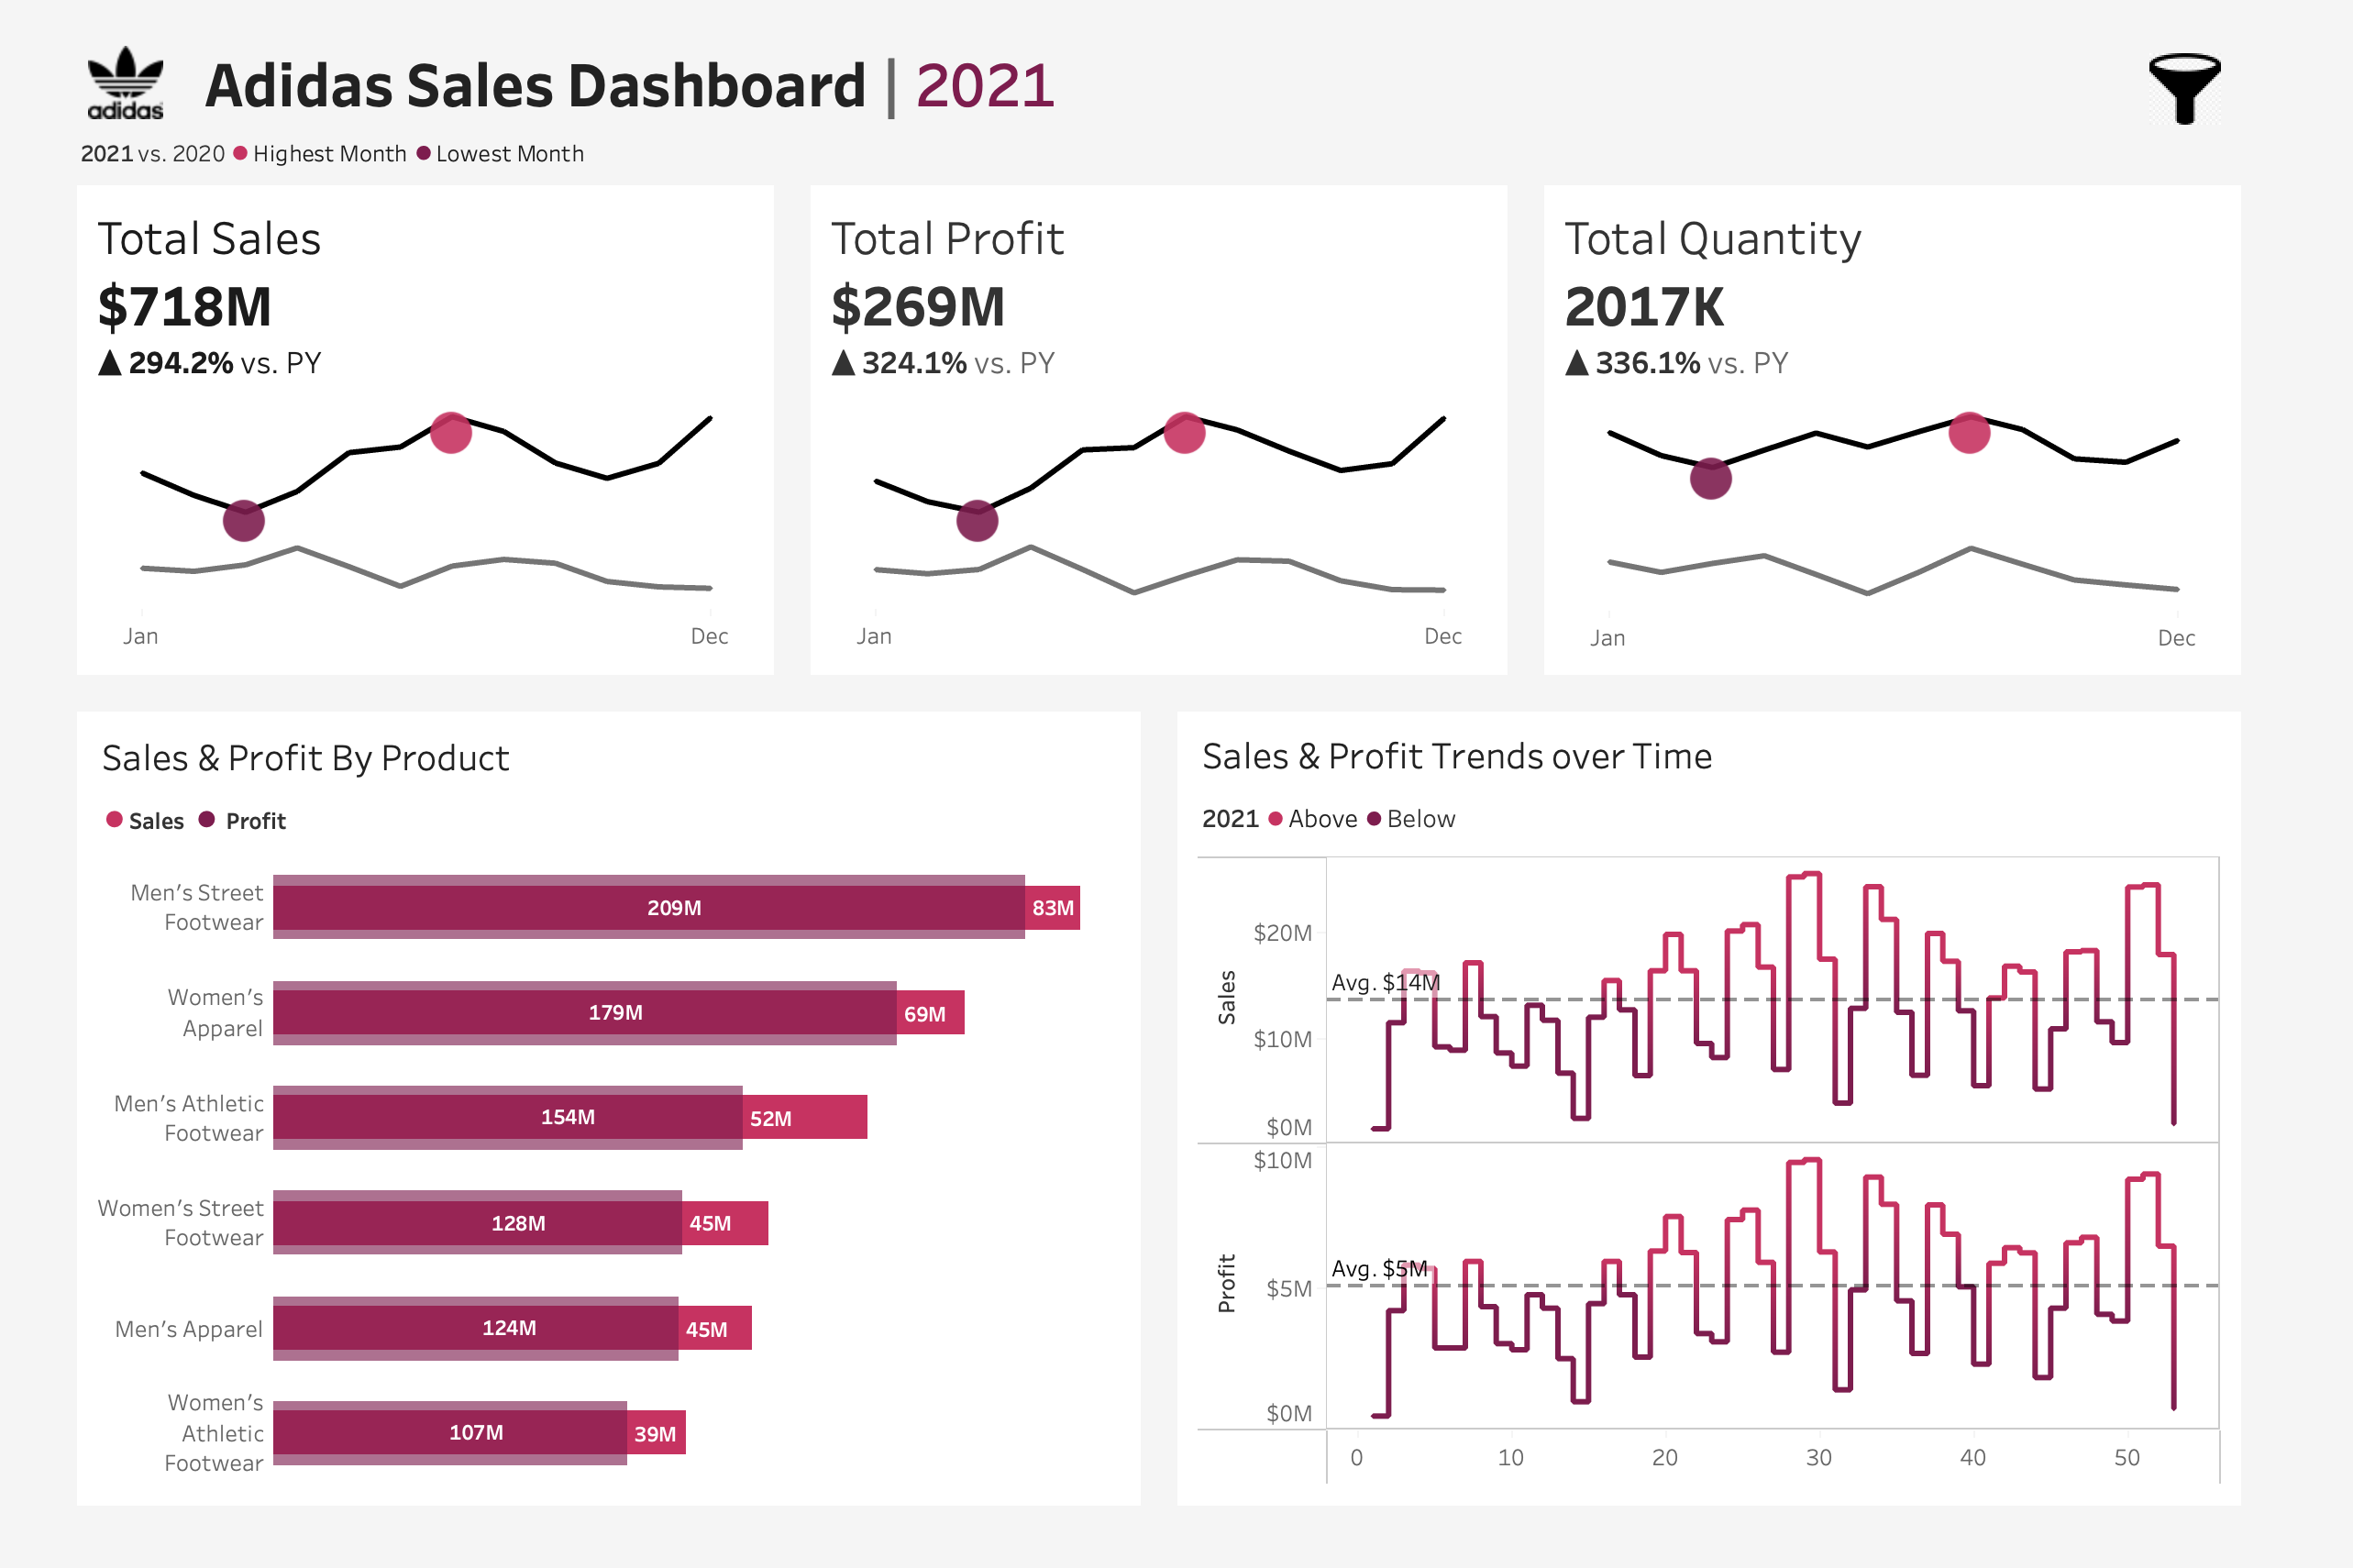

Layout of this report page (visuals, bound fields, positions):
{"tool":"tableau","page":{"name":"Dashboard 1","canvas":[1200,800],"ordinal":0},"visuals":[{"type":"image","param":"/Users/farzankhan/Downloads/adidas-logo-png-transparent-24.png","box":[0,0,73,48]},{"type":"text","box":[73,0,774,48]},{"type":"dashboard-object","box":[1134.5,8,50.2,39]},{"type":"blank","box":[1035.6,10,152.8,45]},{"type":"worksheet","title":"Legend KPI","mark":"Automatic","box":[0,48,1200,27]},{"type":"text","box":[1035.6,55,152.8,34]},{"type":"worksheet","title":"KPI sales","mark":"Automatic","rows":["Calculation_174092294338584579"],"cols":["Invoice Date"],"box":[0,75,400,282]},{"type":"worksheet","title":"KPI profit","mark":"Automatic","rows":["Calculation_174092294359814154"],"cols":["Invoice Date"],"box":[400,75,400,282]},{"type":"worksheet","title":"KPI quantity","mark":"Automatic","rows":["Calculation_174092294441005080"],"cols":["Invoice Date"],"box":[800,75,400,282]},{"type":"parameter","param":"[Parameters].[Parameter 1]","box":[1035.6,89,152.8,52]},{"type":"blank","box":[1035.6,141,152.8,54]},{"type":"text","box":[1035.6,195,152.8,31]},{"type":"filter","title":"KPI sales","param":"[federated.02q3qhh08572w71dziums1x1jynj].[none:Product:nk]","box":[1035.6,226,152.8,52]},{"type":"filter","title":"KPI sales","param":"[federated.02q3qhh08572w71dziums1x1jynj].[none:Sales Method:nk]","box":[1035.6,278,152.8,52]},{"type":"blank","box":[1035.6,330,152.8,56]},{"type":"text","box":[17,374,566,35]},{"type":"text","box":[617,374,566,32.7]},{"type":"text","box":[1035.6,386,152.8,31]},{"type":"text","box":[617,406.7,566,34.9]},{"type":"text","box":[17,409,566,32]},{"type":"filter","title":"KPI sales","param":"[federated.02q3qhh08572w71dziums1x1jynj].[none:Region:nk]","box":[1035.6,417,152.8,52]},{"type":"worksheet","title":"Comparison","mark":"Bar","rows":["Product"],"cols":["Total Sales","Operating Profit"],"box":[17,441,566,352]},{"type":"worksheet","title":"Weekly trends","mark":"Line","rows":["Calculation_563583292789309440","Calculation_174092294359257096"],"cols":["Invoice Date"],"box":[617,441.6,566,351.4]},{"type":"filter","title":"KPI sales","param":"[federated.02q3qhh08572w71dziums1x1jynj].[none:State:nk]","box":[1035.6,469,152.8,52]},{"type":"filter","title":"KPI sales","param":"[federated.02q3qhh08572w71dziums1x1jynj].[none:City:nk]","box":[1035.6,521,152.8,52]},{"type":"blank","box":[1035.6,573,152.8,214]}]}

Visuals, with their boxes in screenshot pixels (x1, y1, x2, y2), scaled from the page's 1200x800 canvas onto the 2353x1568 screenshot:
image: (left=0, top=0, right=143, bottom=94)
text: (left=143, top=0, right=1661, bottom=94)
dashboard-object: (left=2225, top=16, right=2323, bottom=92)
blank: (left=2030, top=19, right=2330, bottom=108)
"Legend KPI" worksheet: (left=0, top=94, right=2352, bottom=147)
text: (left=2030, top=108, right=2330, bottom=174)
"KPI sales" worksheet: (left=0, top=147, right=784, bottom=700)
"KPI profit" worksheet: (left=784, top=147, right=1569, bottom=700)
"KPI quantity" worksheet: (left=1569, top=147, right=2352, bottom=700)
parameter: (left=2030, top=174, right=2330, bottom=276)
blank: (left=2030, top=276, right=2330, bottom=382)
text: (left=2030, top=382, right=2330, bottom=443)
"KPI sales" filter: (left=2030, top=443, right=2330, bottom=545)
"KPI sales" filter: (left=2030, top=545, right=2330, bottom=646)
blank: (left=2030, top=646, right=2330, bottom=756)
text: (left=33, top=733, right=1143, bottom=801)
text: (left=1210, top=733, right=2320, bottom=797)
text: (left=2030, top=756, right=2330, bottom=817)
text: (left=1210, top=797, right=2320, bottom=866)
text: (left=33, top=801, right=1143, bottom=865)
"KPI sales" filter: (left=2030, top=817, right=2330, bottom=919)
"Comparison" worksheet (Bar marks): (left=33, top=865, right=1143, bottom=1554)
"Weekly trends" worksheet (Line marks): (left=1210, top=866, right=2320, bottom=1554)
"KPI sales" filter: (left=2030, top=919, right=2330, bottom=1021)
"KPI sales" filter: (left=2030, top=1021, right=2330, bottom=1123)
blank: (left=2030, top=1123, right=2330, bottom=1542)
